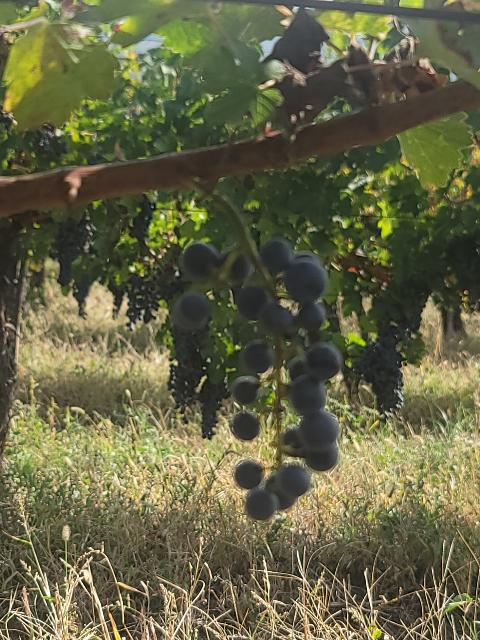grapes: (231, 238, 342, 471), (234, 459, 311, 520), (181, 242, 220, 278), (174, 292, 210, 330)
